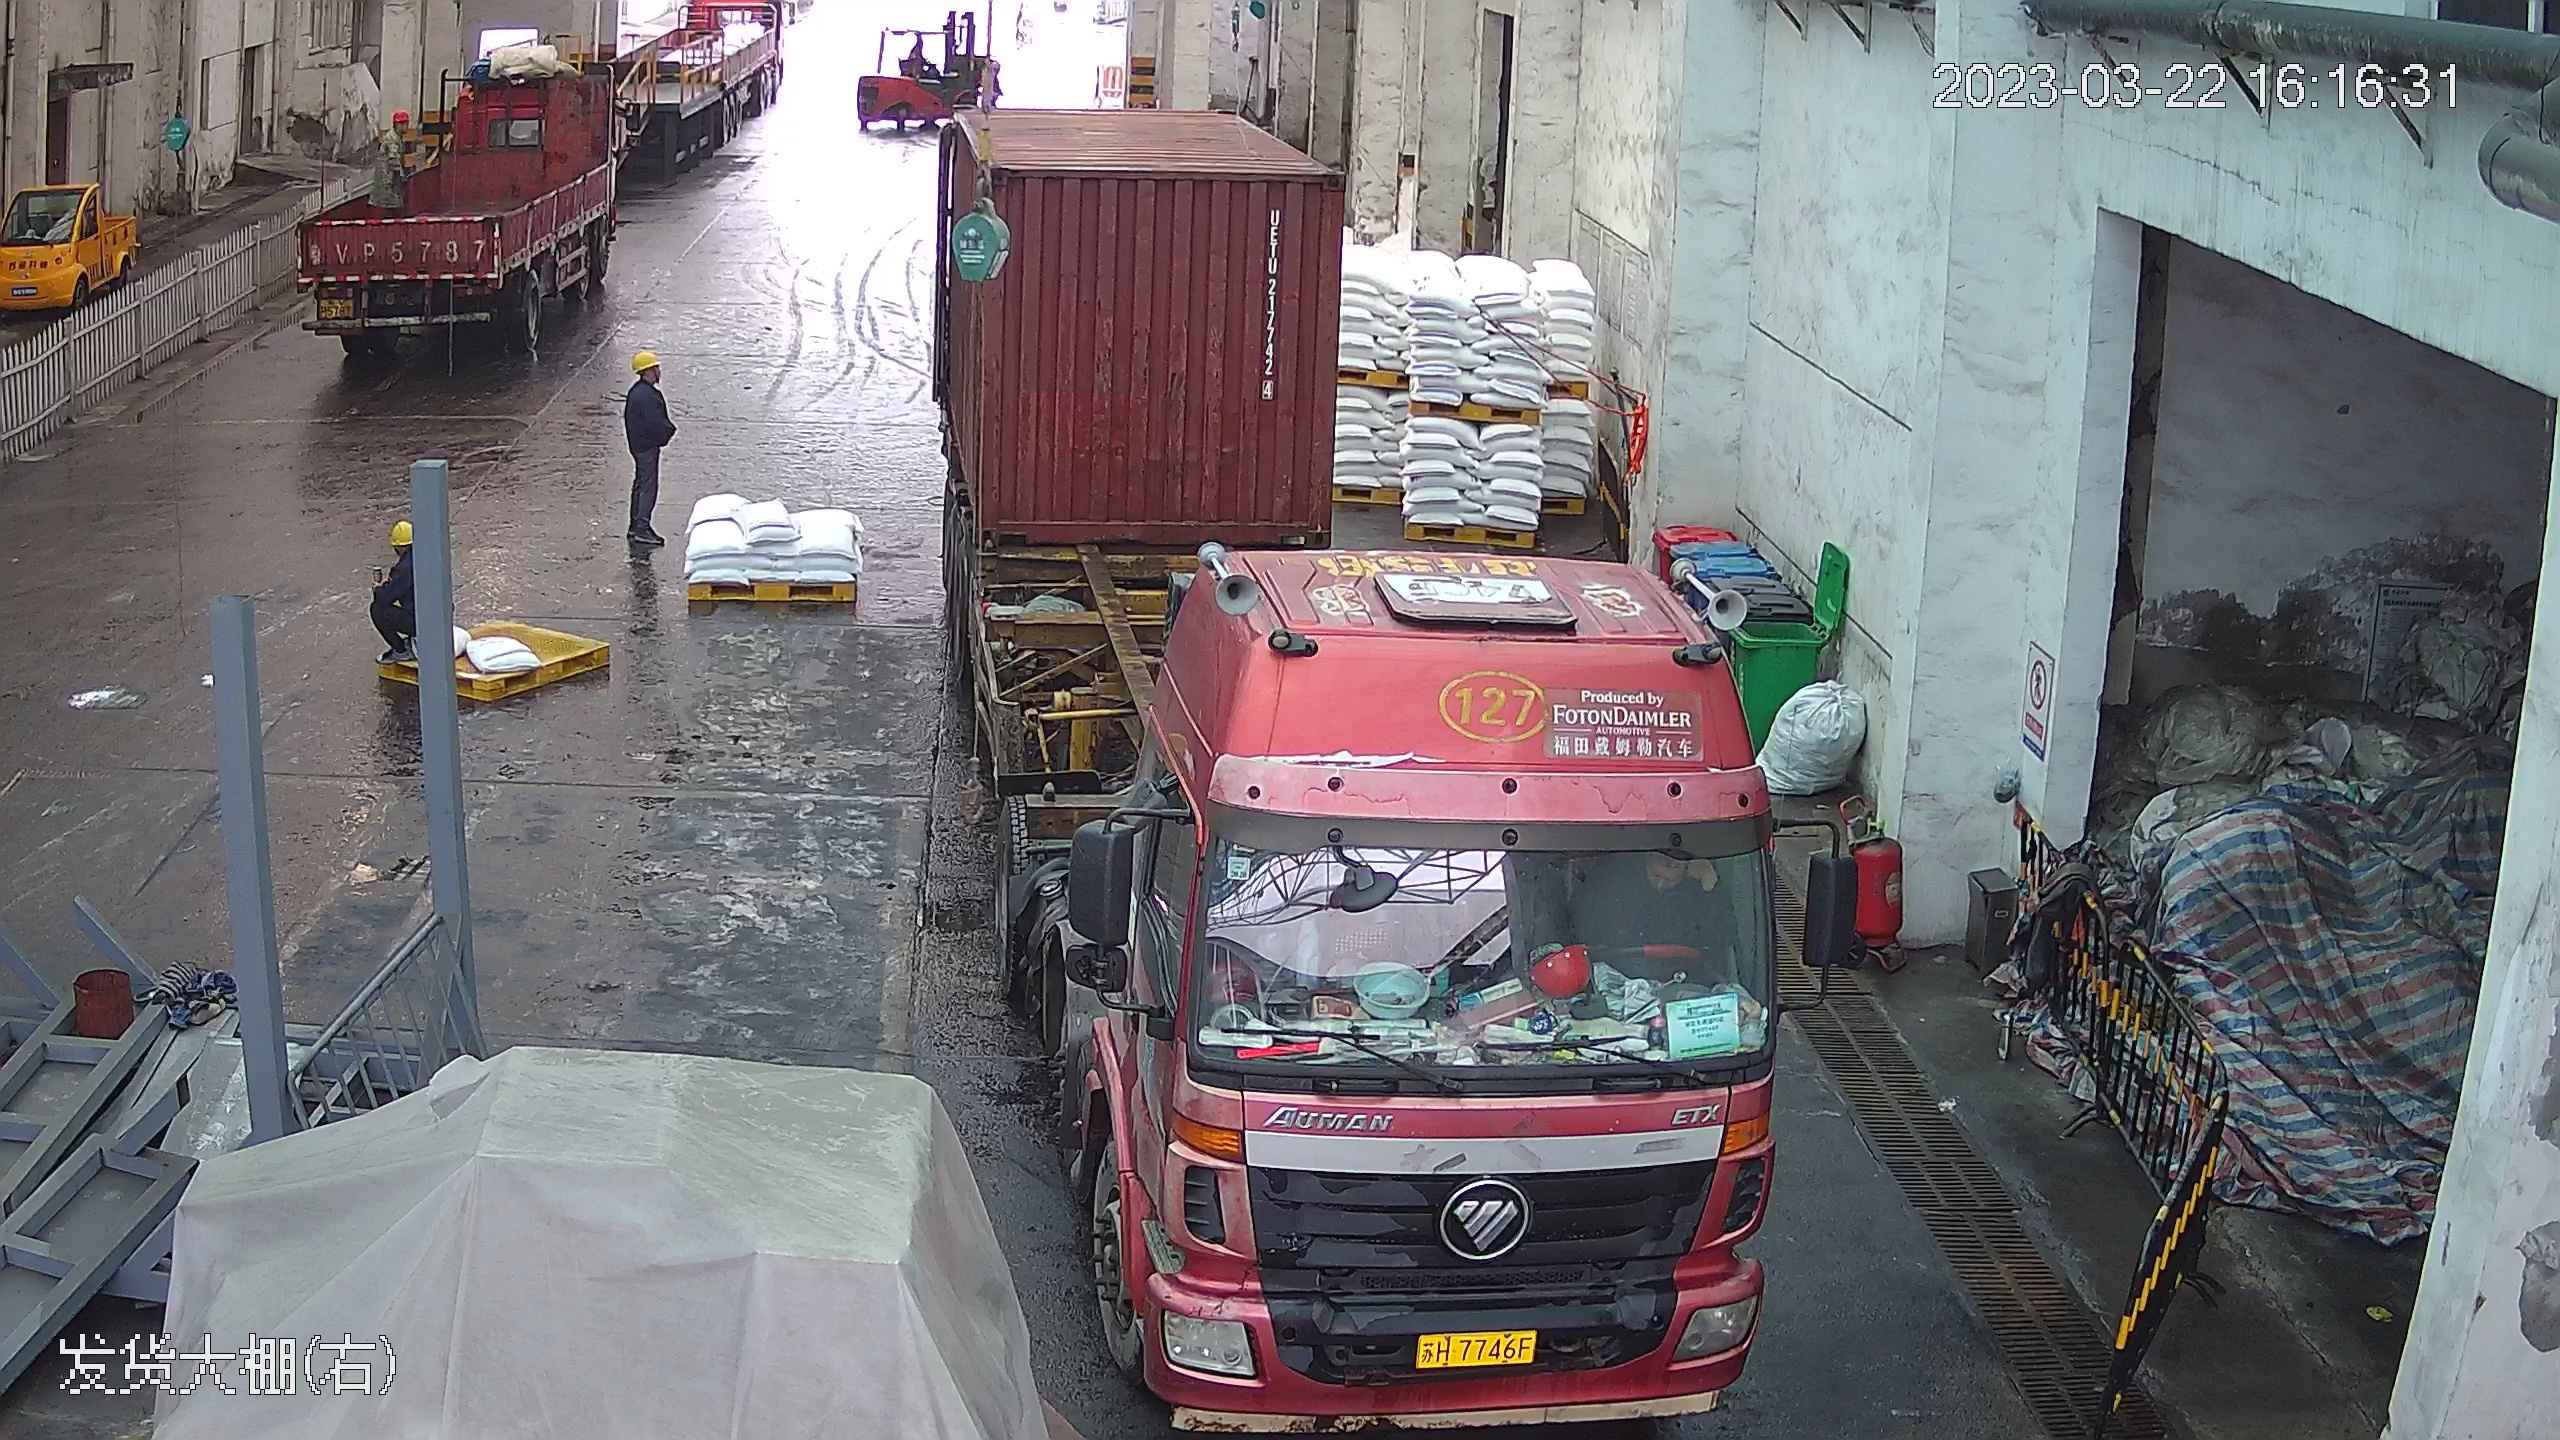head: (622, 343, 672, 415), (376, 515, 419, 579)
helmet: (628, 345, 660, 371), (388, 516, 414, 541)
people: (618, 341, 680, 574), (367, 512, 421, 684)
truck: (920, 16, 1822, 1436), (279, 4, 649, 356)
